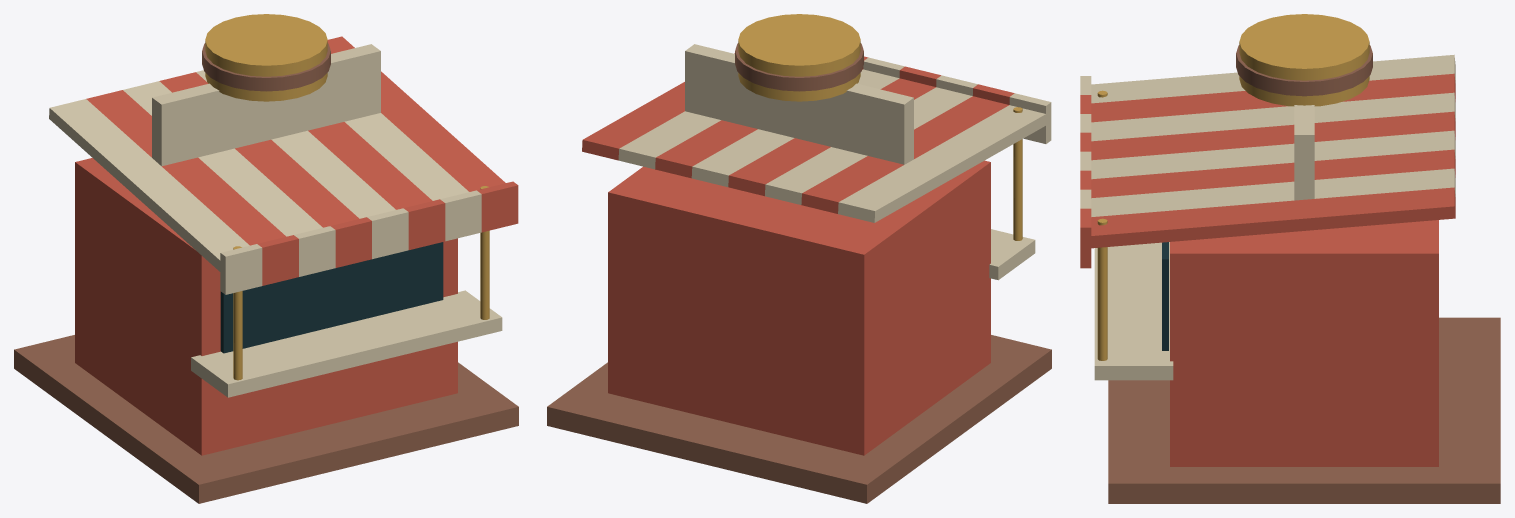
The model's file is stall_food.glb.
3 renders of one model, left to right at view 1: azimuth 30°, elevation 25°; view 2: azimuth 150°, elevation 25°; view 3: azimuth 270°, elevation 25°, orthographic. The views are drawn at different scales.
Visible parts, largest first — view 1: stall_food; view 2: stall_food; view 3: stall_food.
Boxes of the visible parts, left/top/right/bottom form: stall_food: left=14, top=14, right=518, bottom=503; stall_food: left=547, top=14, right=1051, bottom=503; stall_food: left=1080, top=14, right=1500, bottom=503.
Bounding box in the file's own units: 3.5 × 3.73 × 3.75.
